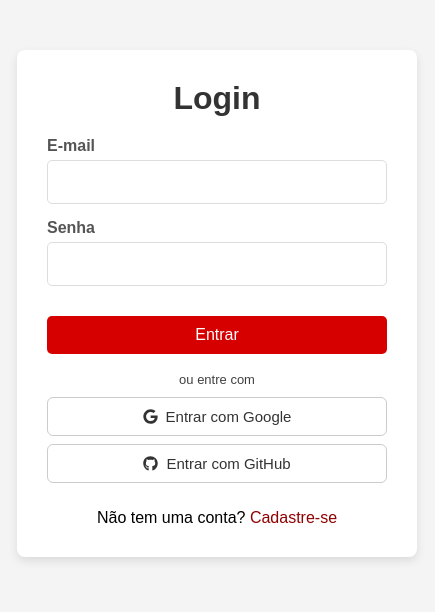
Test: Login — entrar com Google (AC-AUTH-03) › a janela fechada vira mensagem no formulário, sem alert
Click the button "Entrar com Google" at (217, 416), box [47,396,387,436]
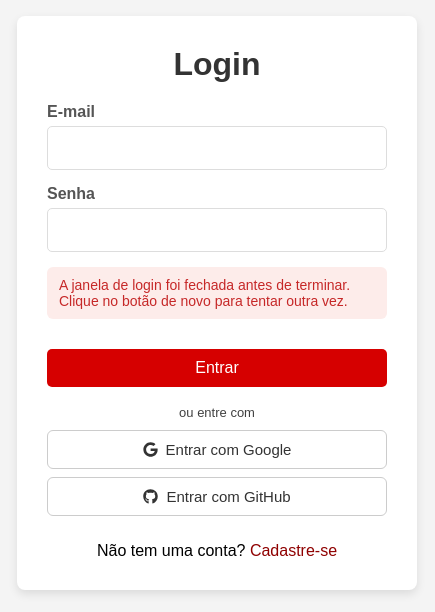
Check: the message shows "A janela de login foi fechada", box [59,277,350,309]
